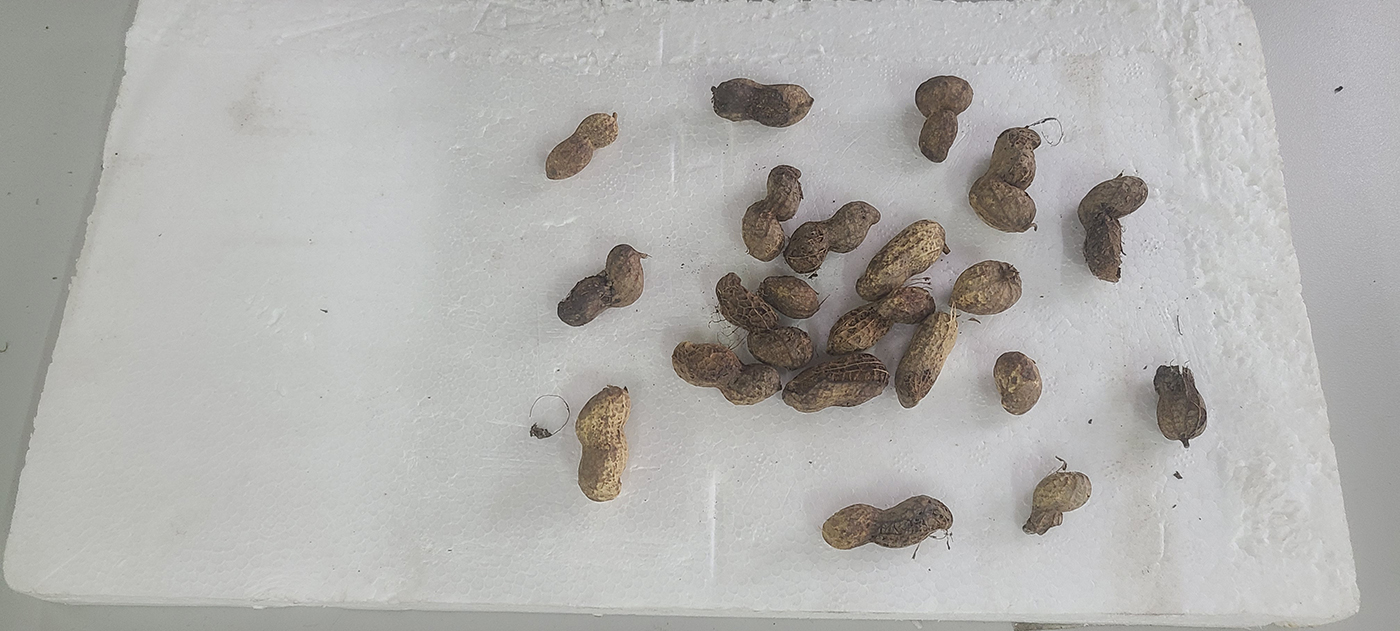l: (715, 273, 815, 368), (967, 127, 1041, 233), (826, 286, 937, 356), (557, 244, 645, 328), (855, 219, 946, 300), (671, 339, 782, 405), (1076, 177, 1147, 280), (823, 495, 954, 548), (785, 200, 880, 273), (783, 352, 890, 415), (574, 387, 630, 501), (742, 163, 804, 262), (915, 75, 973, 161), (713, 78, 812, 128), (544, 114, 620, 179), (1026, 470, 1092, 537), (1154, 364, 1210, 442), (947, 261, 1023, 314), (992, 352, 1044, 415), (760, 274, 820, 319)
